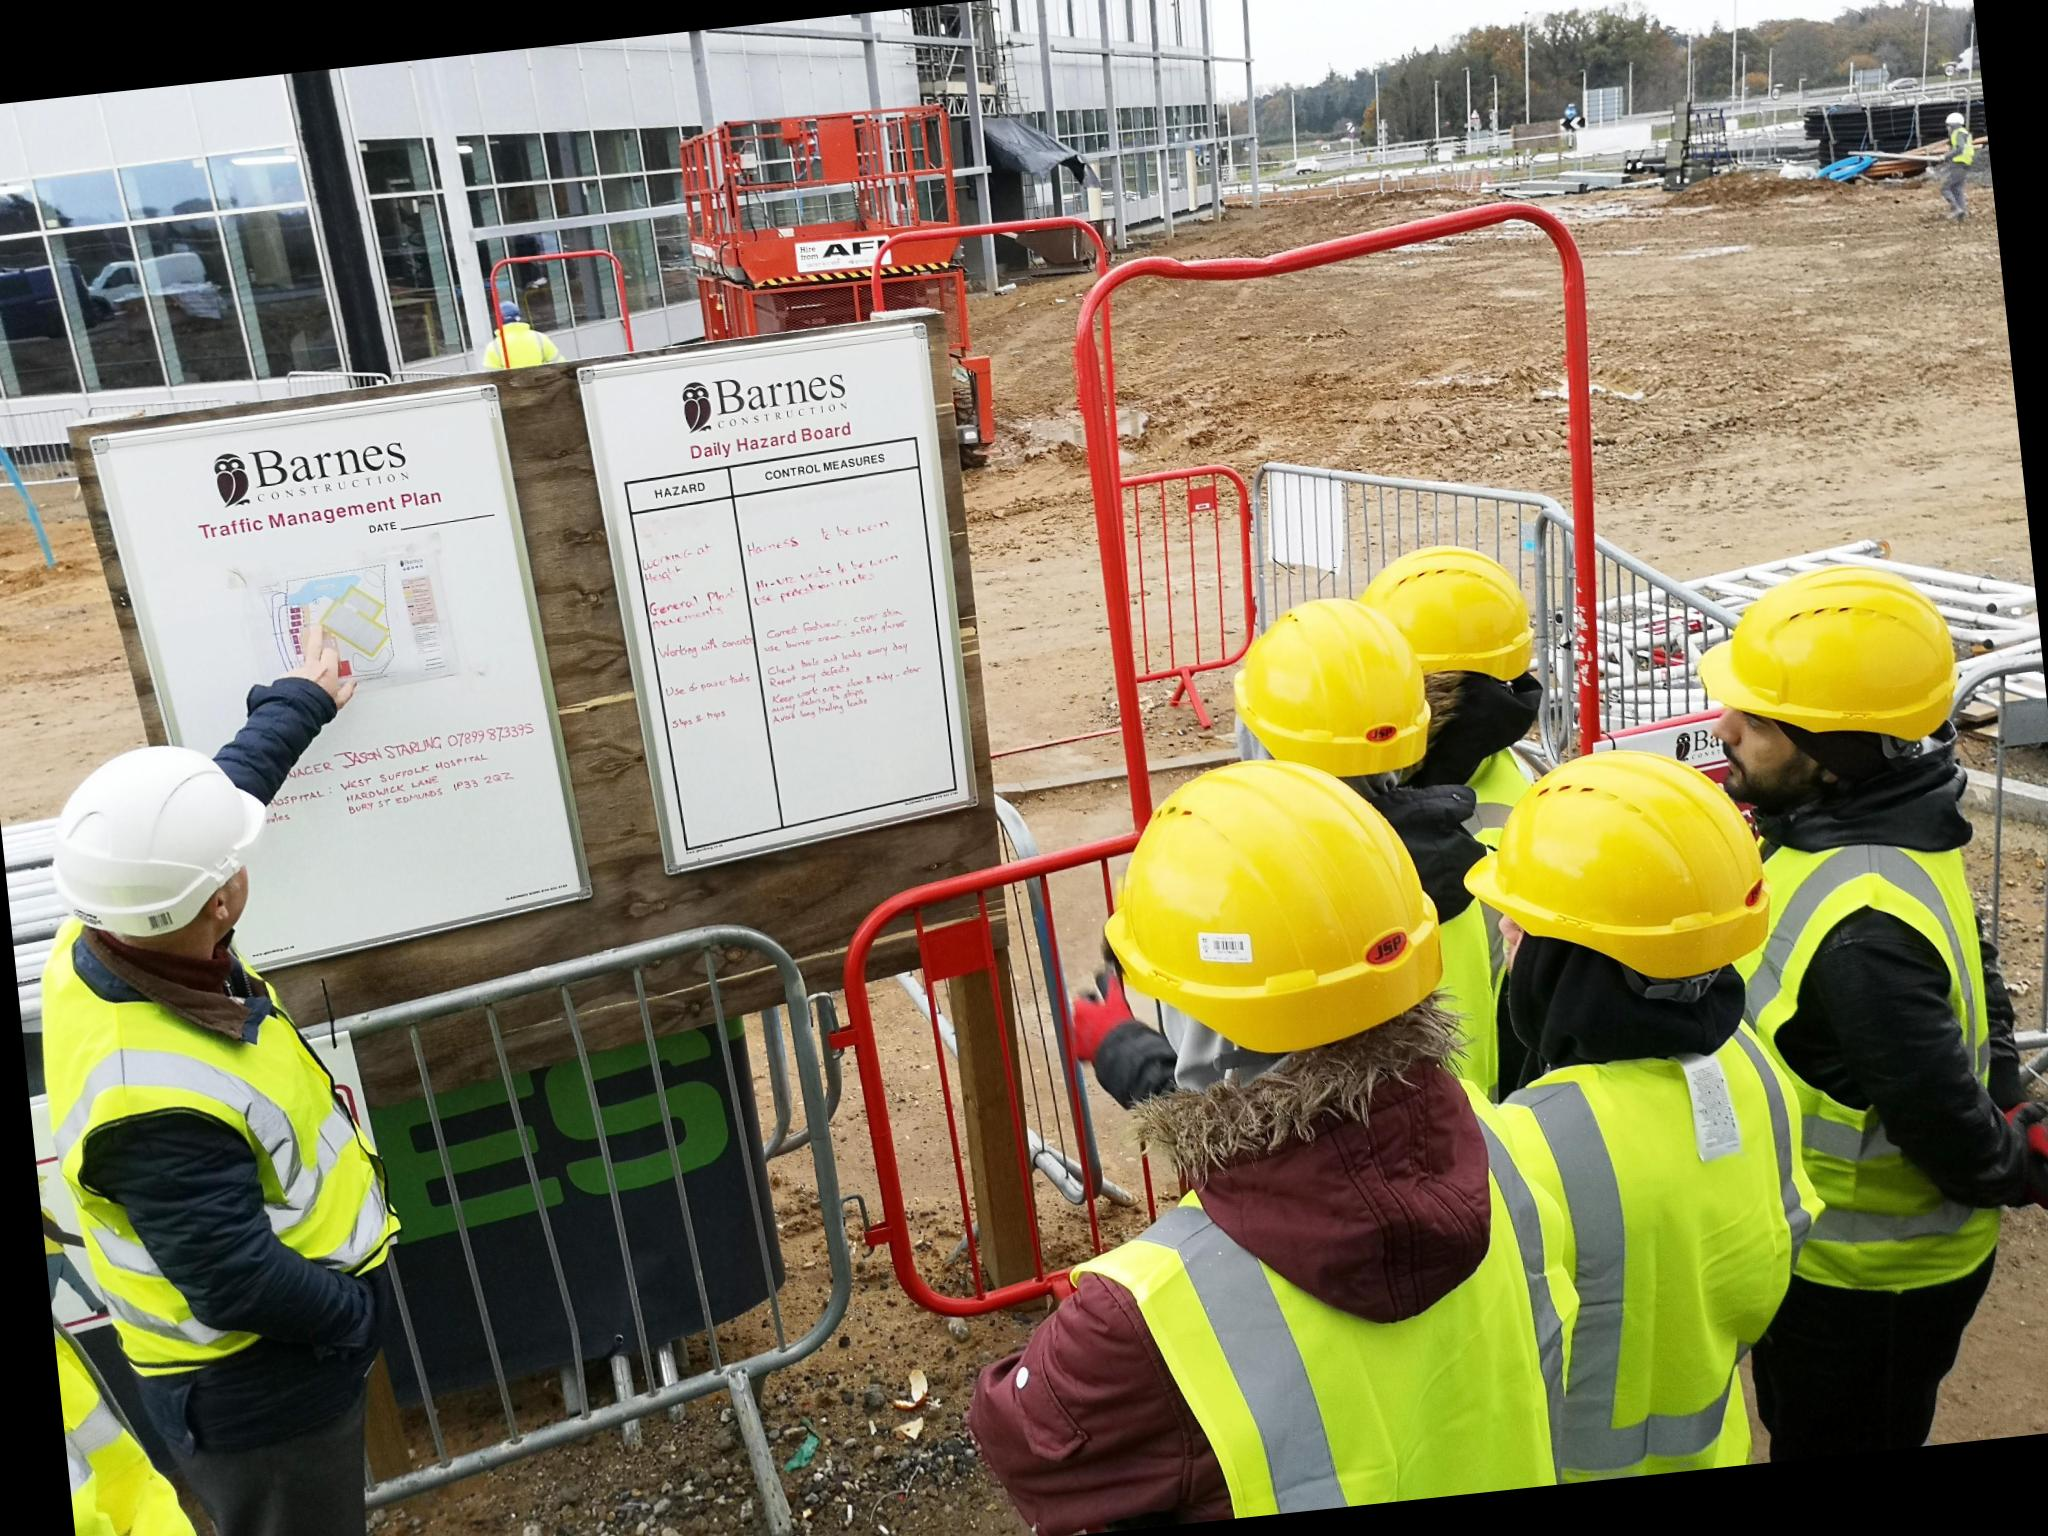Helmet: (1105, 753, 1445, 1084), (1476, 733, 1798, 1029), (1688, 545, 1987, 795), (26, 713, 290, 955), (1221, 578, 1479, 799), (1367, 502, 1559, 731)
Vest: (15, 897, 403, 1399), (1706, 800, 2048, 1341), (1482, 1029, 1838, 1468), (1084, 1149, 1492, 1530)
